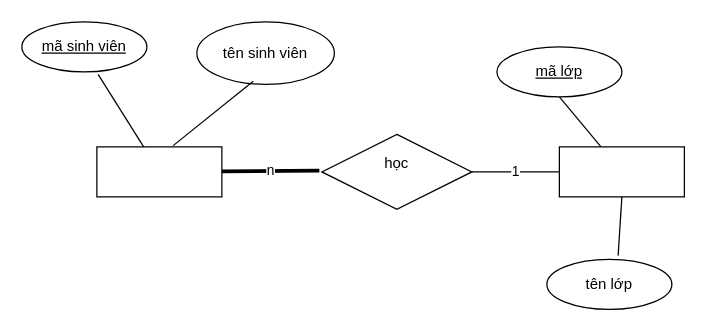
This 706x331 diagram has some shape labels left out. The shapes that lost their labels are listed below. From the top down, each one's centre as x and y in pixels, then its label:
(159,171): sinh viên
(621,171): lớp
